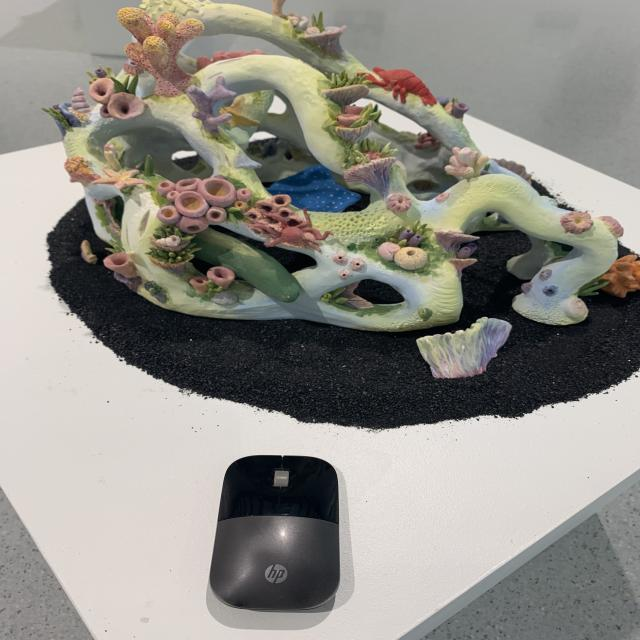Mouse: (203, 452, 342, 611)
